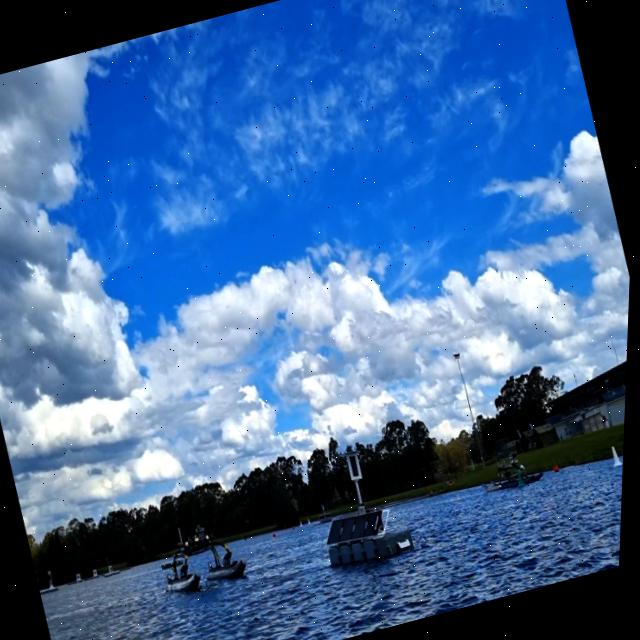led: (349, 452, 366, 480)
